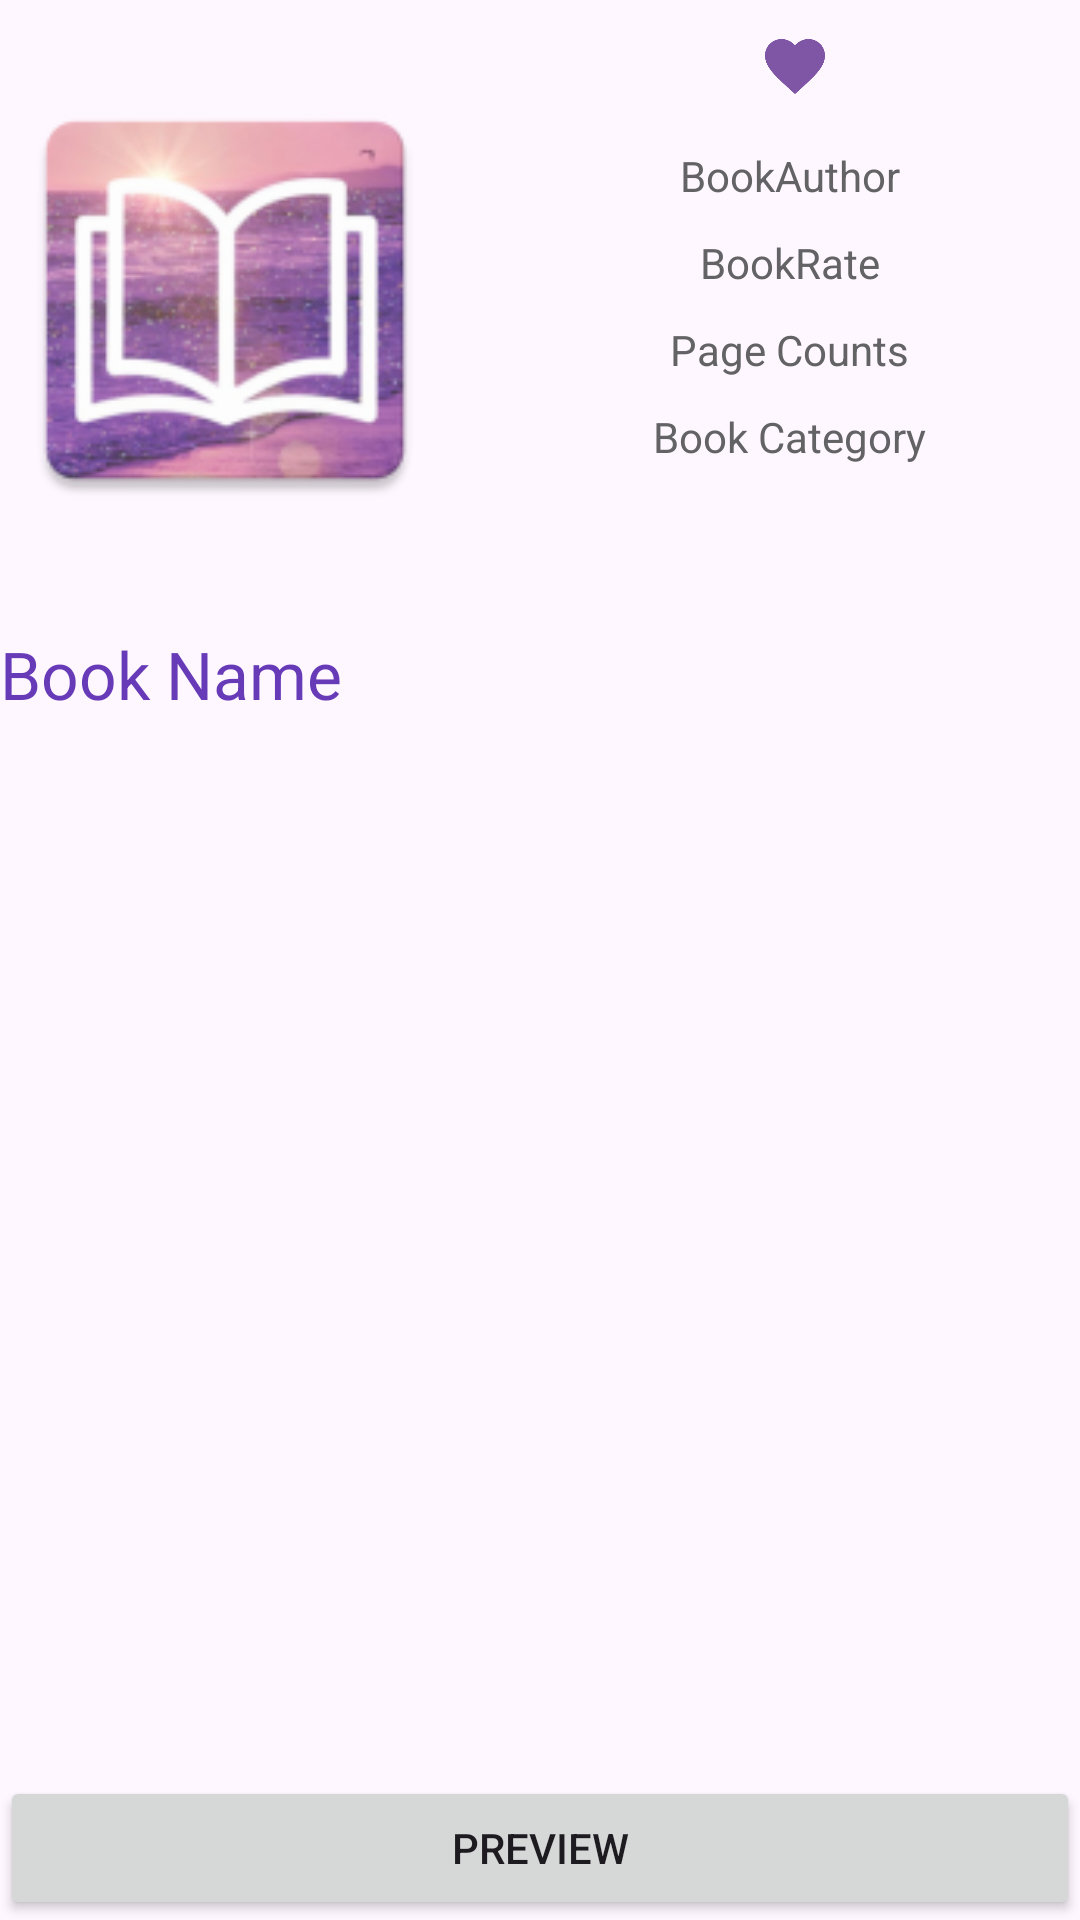

Where icons sit on this 1080*1920 app screen, as {"x1": x1, "y1": y1, "x2": x2, "y2": y2}:
favorite: {"x1": 765, "y1": 39, "x2": 825, "y2": 94}
